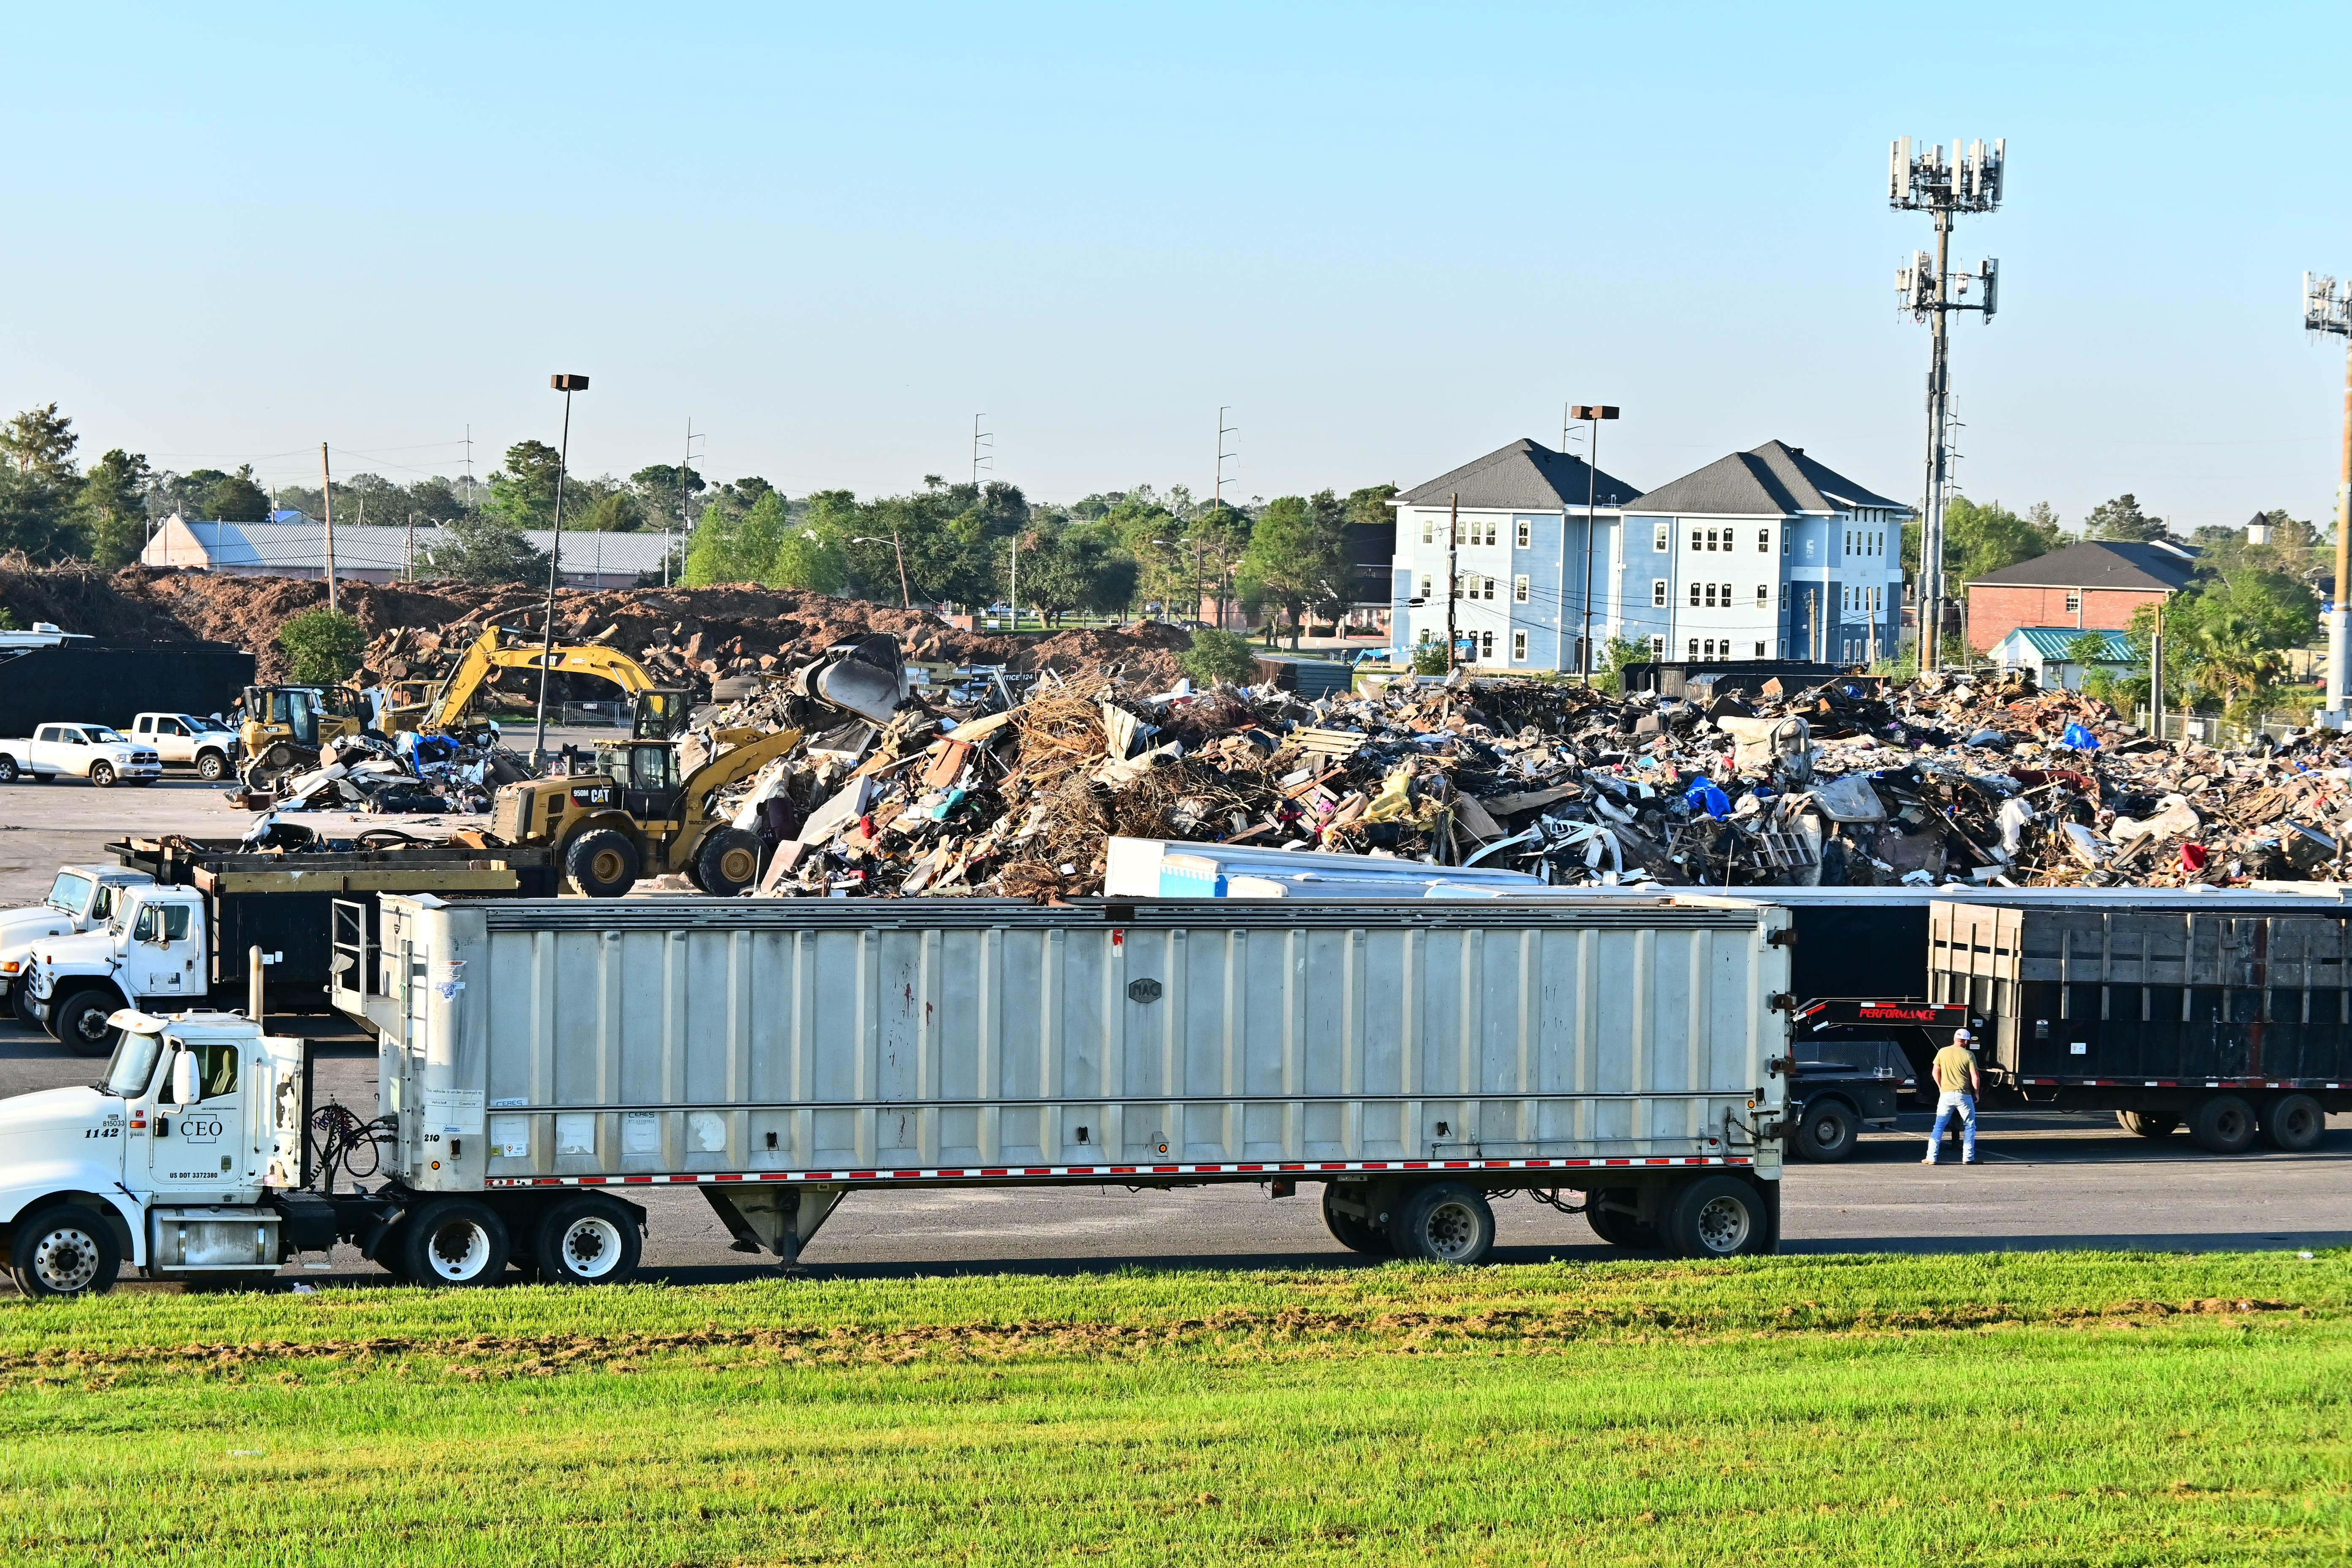affected: (1383, 401, 1932, 679)
